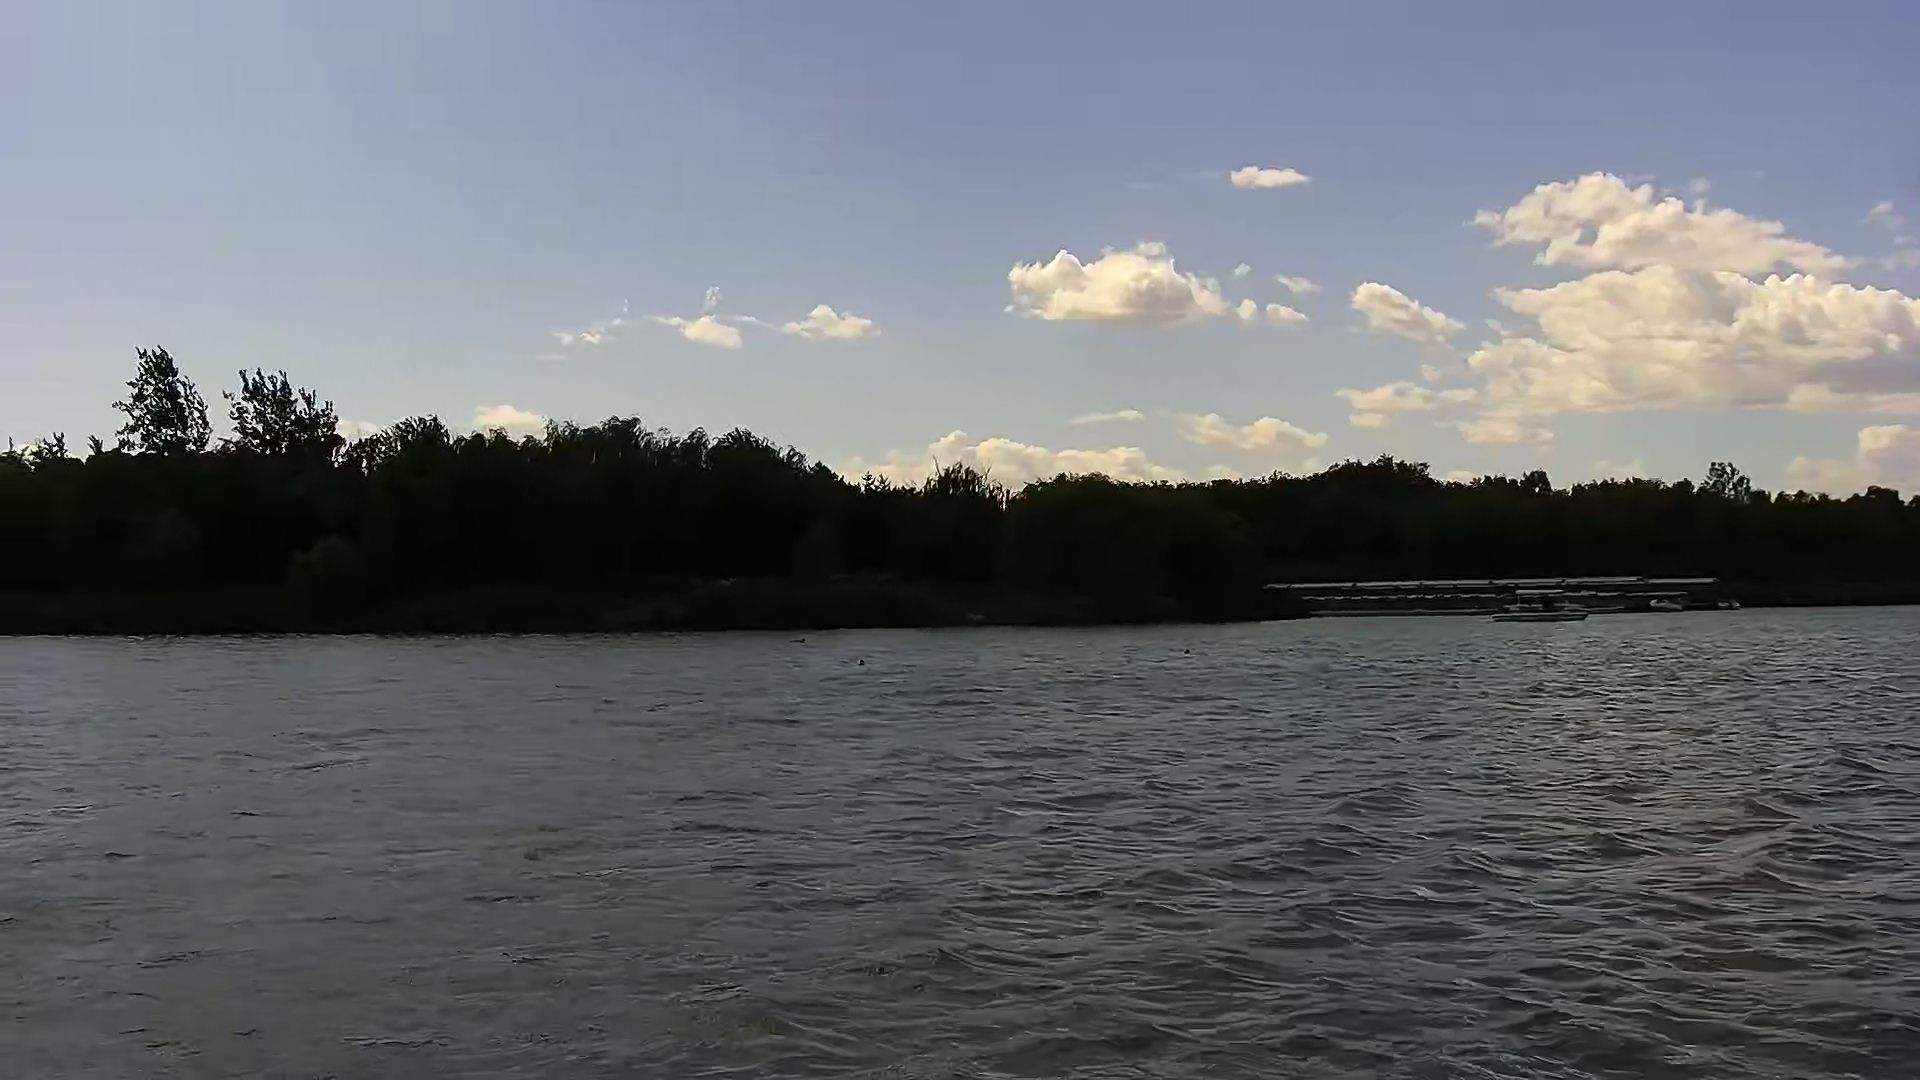boat: (1487, 589, 1600, 629)
harbor: (1267, 576, 1696, 620)
